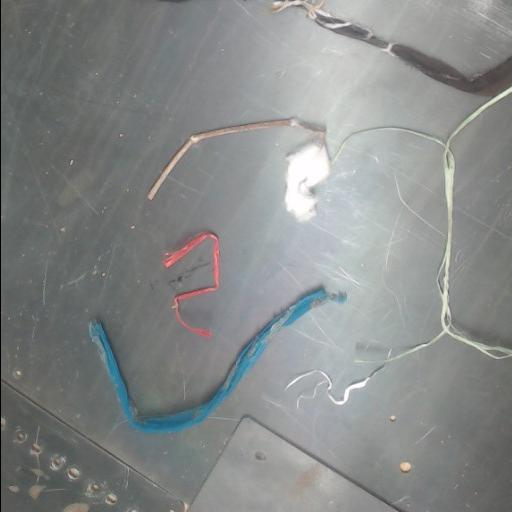cloth: (90, 287, 344, 433), (273, 0, 512, 95)
conveyor belt: (1, 0, 512, 511), (451, 94, 512, 345)
cotton: (284, 143, 329, 221)
thread: (329, 84, 512, 404), (147, 117, 326, 199), (163, 232, 218, 337)
